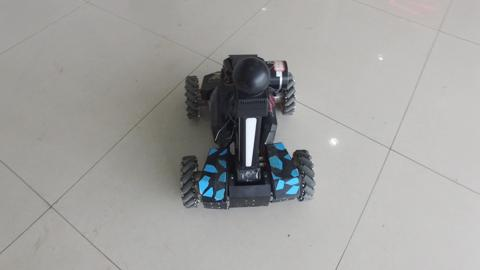chariot: (157, 25, 310, 219)
